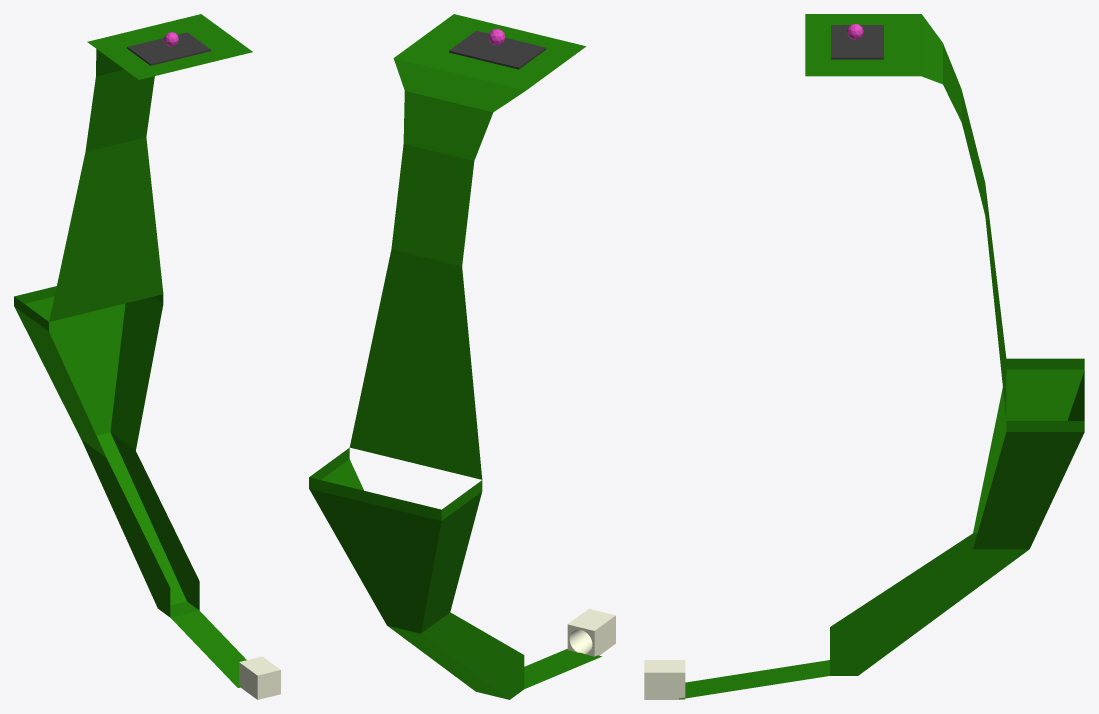
The model's file is boilerplate_level_9.glb.
3 views of the same model, side by side, from view 1: azimuth 30°, elevation 25°; view 2: azimuth 150°, elevation 25°; view 3: azimuth 270°, elevation 25° (orthographic). The views are drawn at different scales.
Parts seen in each view (by area): view 1: Plane, Start, Cup; view 2: Plane, Start, Cup; view 3: Plane, Cup, Start.
Part boxes in pixels (left/top/right/bottom): Plane: left=14, top=14, right=252, bottom=687; Start: left=127, top=32, right=210, bottom=65; Cup: left=239, top=656, right=280, bottom=699; Plane: left=309, top=14, right=601, bottom=699; Start: left=449, top=30, right=546, bottom=69; Cup: left=567, top=609, right=615, bottom=656; Plane: left=679, top=14, right=1084, bottom=699; Cup: left=644, top=660, right=685, bottom=699; Start: left=831, top=25, right=883, bottom=59.
Size of the model in its own units: 14.95 by 74.54 by 44.58.
